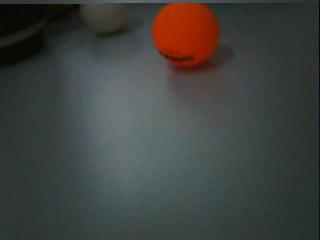oball: (153, 4, 219, 70)
